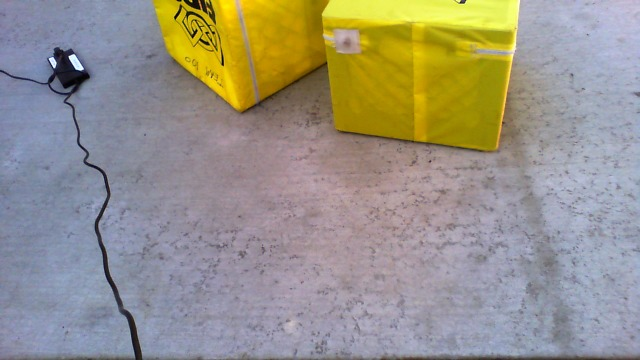cube: (321, 1, 521, 154), (149, 1, 341, 114)
